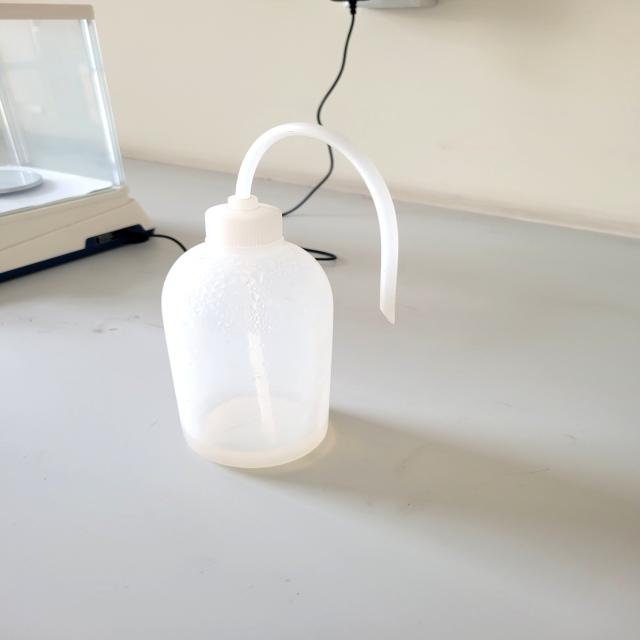Wash_Bottle: (151, 114, 423, 503)
